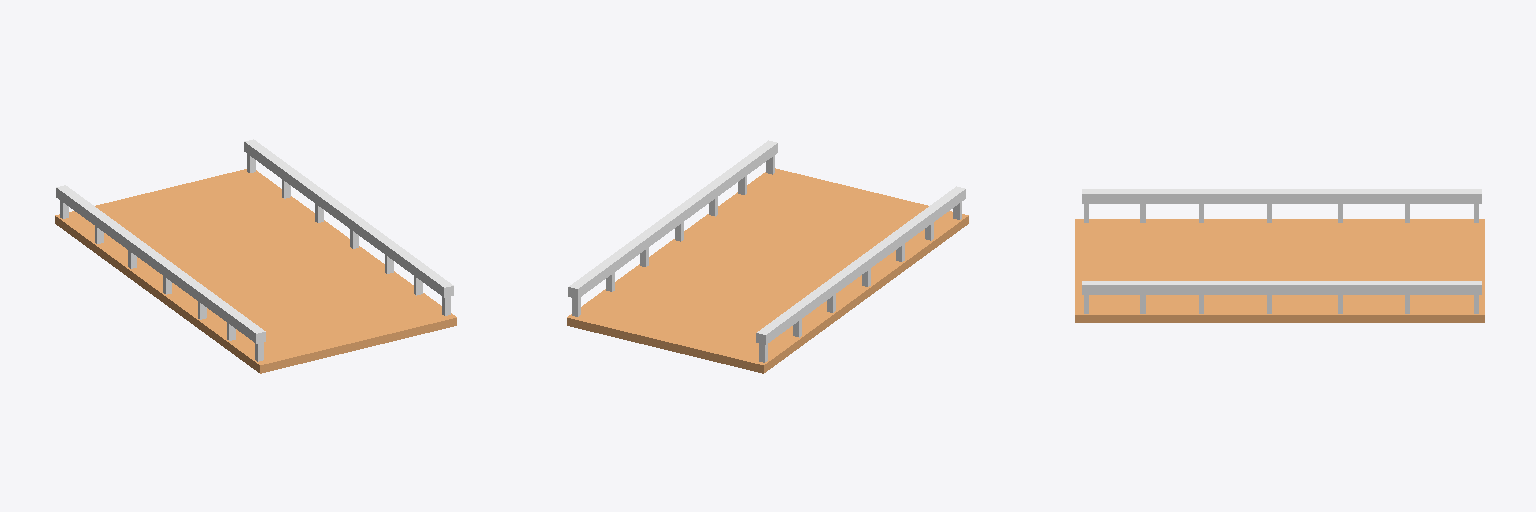
The model's file is BridgeV1.obj.
3 views of the same model, side by side, from view 1: azimuth 30°, elevation 25°; view 2: azimuth 150°, elevation 25°; view 3: azimuth 270°, elevation 25° (orthographic).
Visible parts, largest first — view 1: pCube20; view 2: pCube20; view 3: pCube20.
Part boxes in pixels (bbox=[...]): pCube20: bbox=[55, 139, 456, 373]; pCube20: bbox=[567, 140, 968, 373]; pCube20: bbox=[1075, 189, 1484, 322].
Size of the model in its own units: 3.98 by 0.7242 by 7.14.